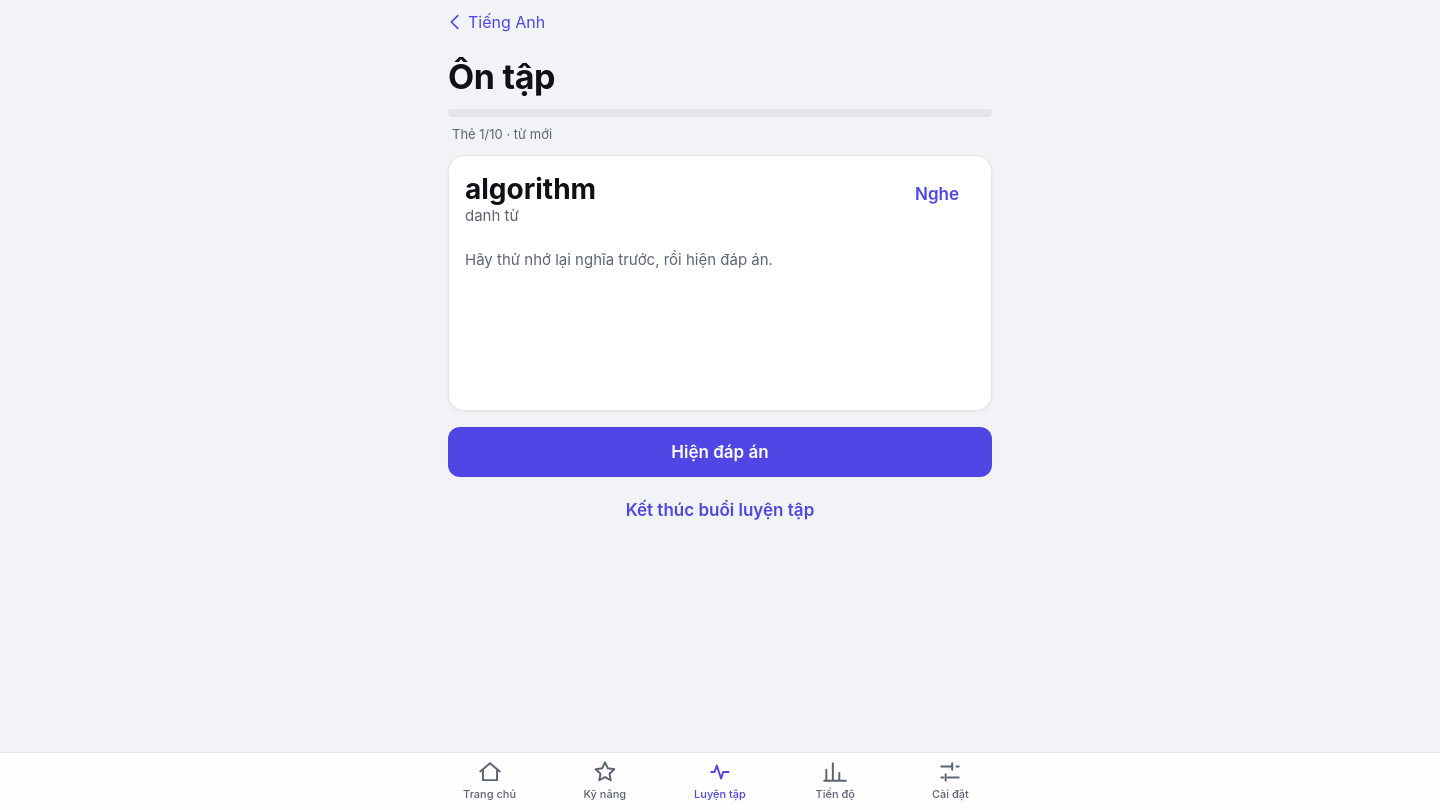
Test: English module in Vietnamese › keeps the teaching material in English and shows the Vietnamese meaning after reveal
The image size is (1440, 810).
Expected: the heading "algorithm" is shown, [465,172,596,206]
Click the button "Hiện đáp án": (720, 452) [448,427,992,477]
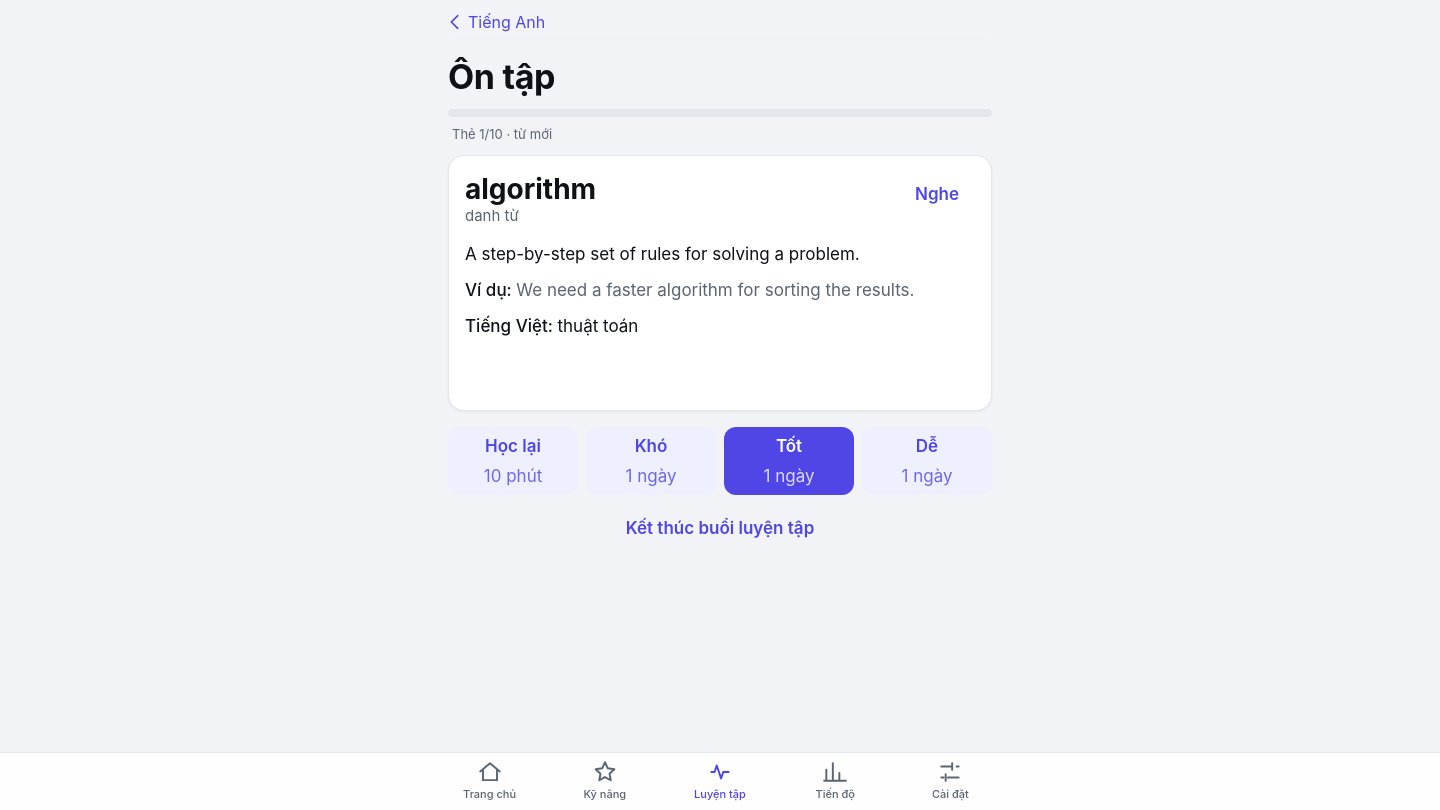
Result: the text "A step-by-step set of rules for solving a problem." is shown at [465,244,860,264]
Result: the text "We need a faster algorithm for sorting the results." is shown at [516,280,914,300]
Result: the text "thuật toán" is shown at [558,316,638,336]
